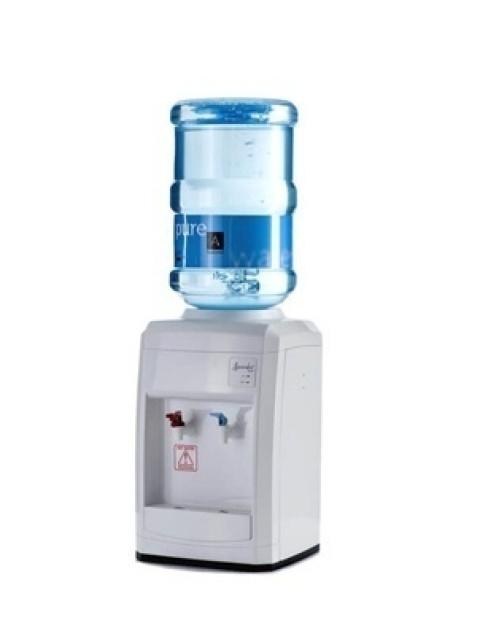Dispenser: (134, 96, 324, 573)
